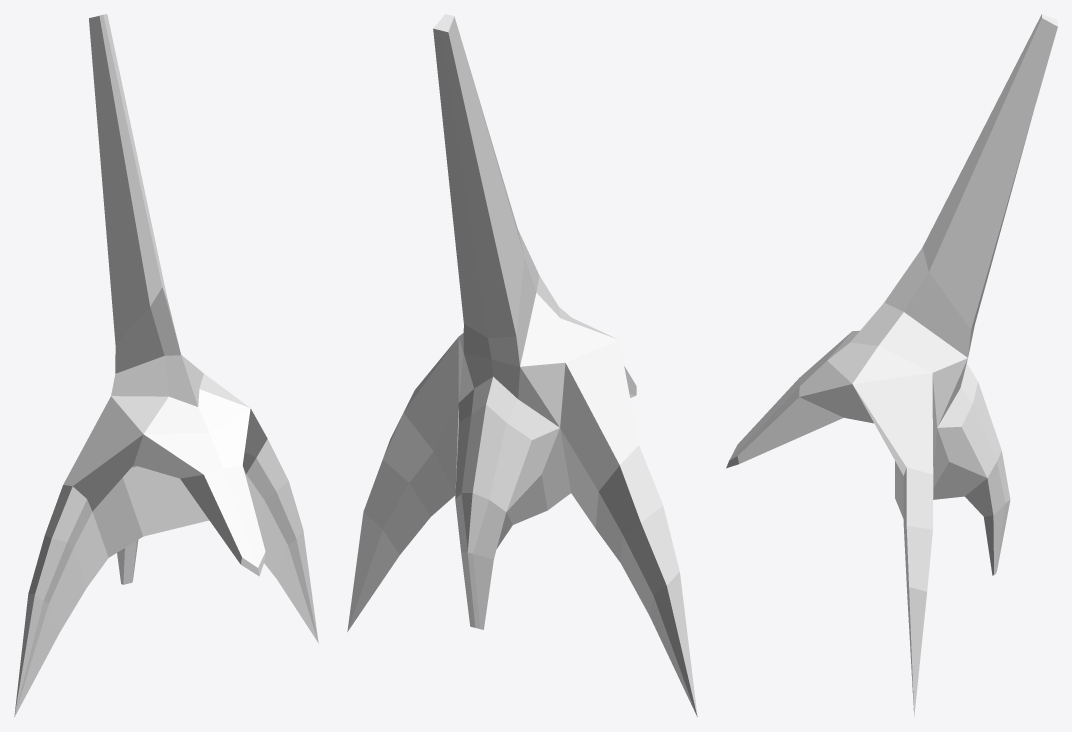
The model's file is head_33.fbx.
3 views of the same model, side by side, from view 1: azimuth 30°, elevation 25°; view 2: azimuth 150°, elevation 25°; view 3: azimuth 270°, elevation 25° (orthographic). The views are drawn at different scales.
Visible parts, largest first — view 1: Cube.161; view 2: Cube.161; view 3: Cube.161.
Part boxes in pixels (bbox=[...]): Cube.161: bbox=[14, 14, 318, 717]; Cube.161: bbox=[347, 14, 697, 717]; Cube.161: bbox=[726, 14, 1057, 716].
Size of the model in its own units: 80.98 by 158 by 75.61.
